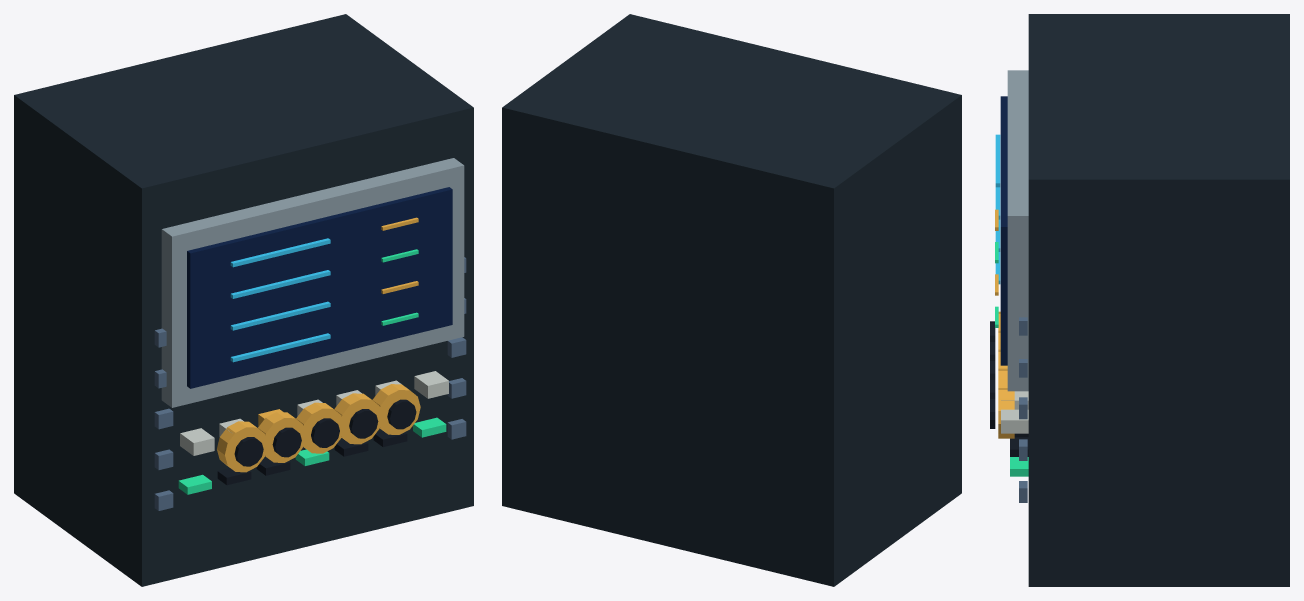
Rendered from 68_L84_CriticalAttitudeFeedbackStation.fbx.
The picture shows the model from 3 angles, left to right: view 1: azimuth 30°, elevation 25°; view 2: azimuth 150°, elevation 25°; view 3: azimuth 270°, elevation 25°; orthographic projection. The views are drawn at different scales.
Visible parts, largest first — view 1: L84_CriticalAttitudeFeedbackStation, L84_CriticalAttitudeFeedbackStation_Part_0010, L84_CriticalAttitudeFeedbackStation_Part_0016, L84_CriticalAttitudeFeedbackStation_Part_0012, L84_CriticalAttitudeFeedbackStation_Part_0018, L84_CriticalAttitudeFeedbackStation_Part_0014, L84_CriticalAttitudeFeedbackStation_Part_0019, L84_CriticalAttitudeFeedbackStation_Part_0013, L84_CriticalAttitudeFeedbackStation_Part_0015, L84_CriticalAttitudeFeedbackStation_Part_0011, L84_CriticalAttitudeFeedbackStation_Part_0017; view 2: L84_CriticalAttitudeFeedbackStation; view 3: L84_CriticalAttitudeFeedbackStation, L84_CriticalAttitudeFeedbackStation_Part_0018.
Boxes of the visible parts, left/top/right/bottom form: L84_CriticalAttitudeFeedbackStation: left=14, top=14, right=473, bottom=586; L84_CriticalAttitudeFeedbackStation_Part_0010: left=217, top=421, right=267, bottom=472; L84_CriticalAttitudeFeedbackStation_Part_0016: left=334, top=393, right=382, bottom=444; L84_CriticalAttitudeFeedbackStation_Part_0012: left=258, top=412, right=305, bottom=462; L84_CriticalAttitudeFeedbackStation_Part_0018: left=372, top=384, right=420, bottom=434; L84_CriticalAttitudeFeedbackStation_Part_0014: left=296, top=402, right=344, bottom=453; L84_CriticalAttitudeFeedbackStation_Part_0019: left=387, top=399, right=416, bottom=429; L84_CriticalAttitudeFeedbackStation_Part_0013: left=272, top=427, right=301, bottom=457; L84_CriticalAttitudeFeedbackStation_Part_0015: left=311, top=418, right=339, bottom=447; L84_CriticalAttitudeFeedbackStation_Part_0011: left=234, top=437, right=263, bottom=466; L84_CriticalAttitudeFeedbackStation_Part_0017: left=349, top=409, right=378, bottom=438; L84_CriticalAttitudeFeedbackStation: left=502, top=14, right=961, bottom=586; L84_CriticalAttitudeFeedbackStation: left=995, top=14, right=1289, bottom=586; L84_CriticalAttitudeFeedbackStation_Part_0018: left=998, top=388, right=1014, bottom=438.
Bounding box in the file's own units: 99.96 × 115 × 76.52.
